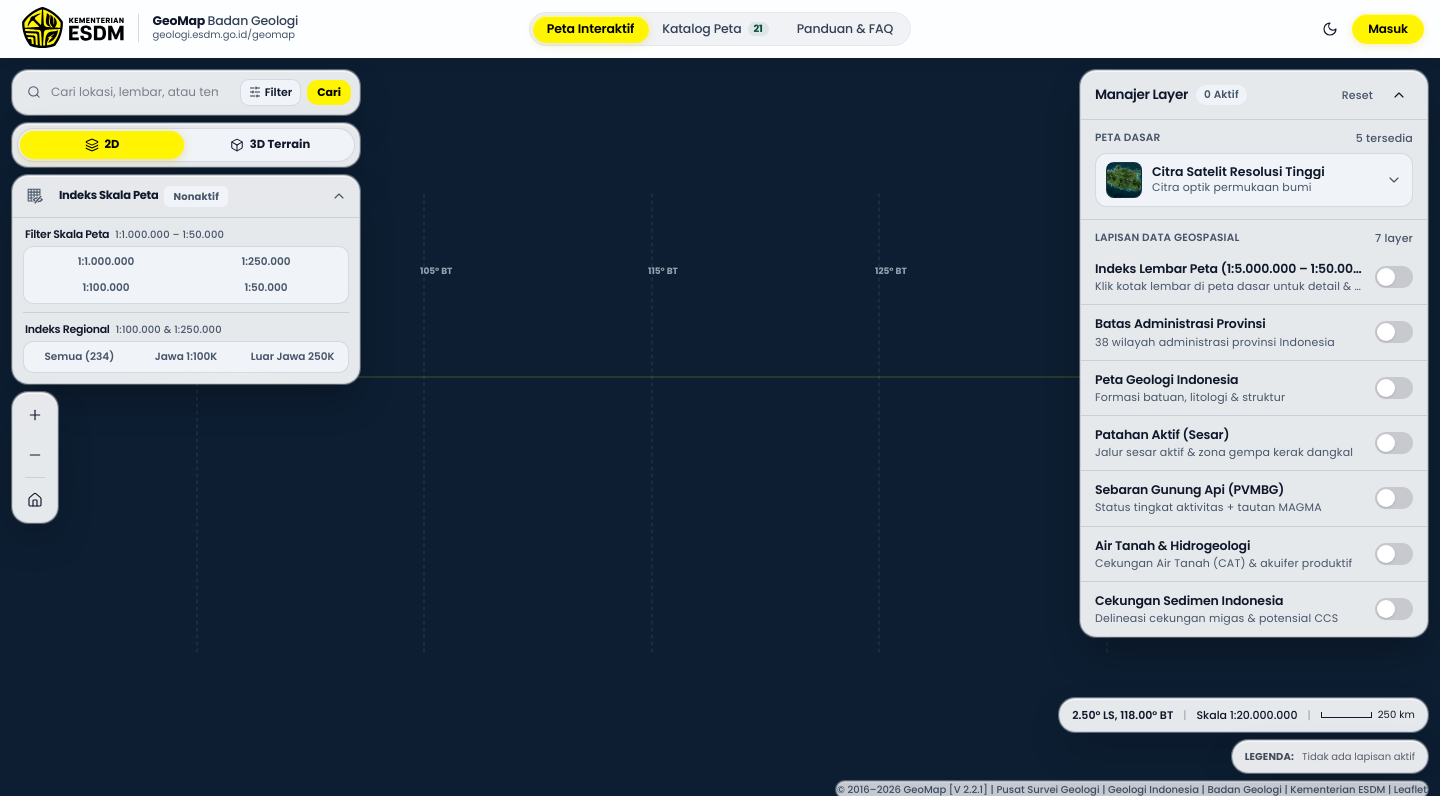
Test: GeoMap ESDM Portal — Master Blueprint Verification › menjalankan pencarian katalog dengan normalisasi istilah serta 1-Click Empty State Recovery
Click the button "Katalog Peta 21" at (715, 29), box [648, 16, 783, 42]
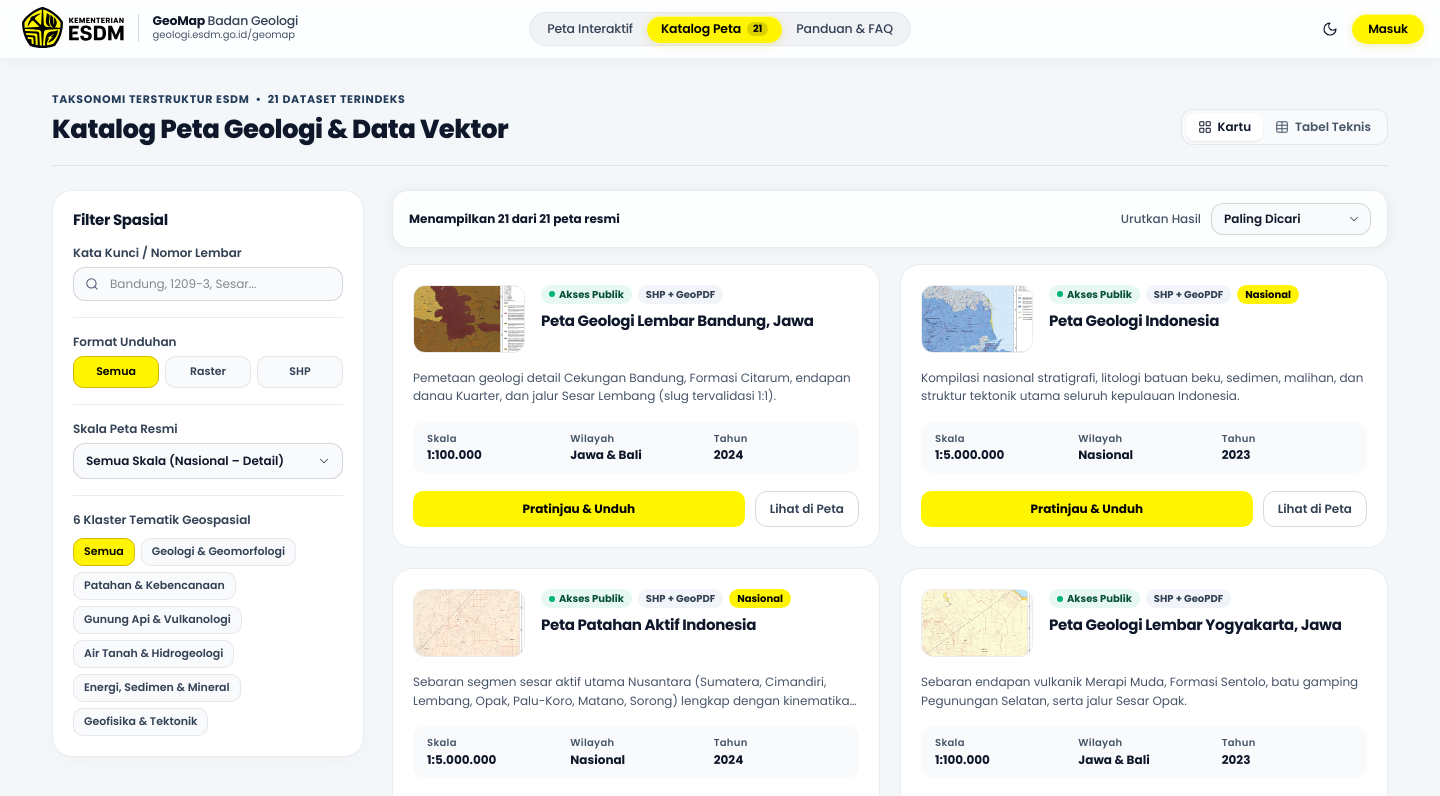
Type "sesar" into the search field named "Cari dataset dalam katalog peta" at (208, 284), box [73, 267, 343, 301]
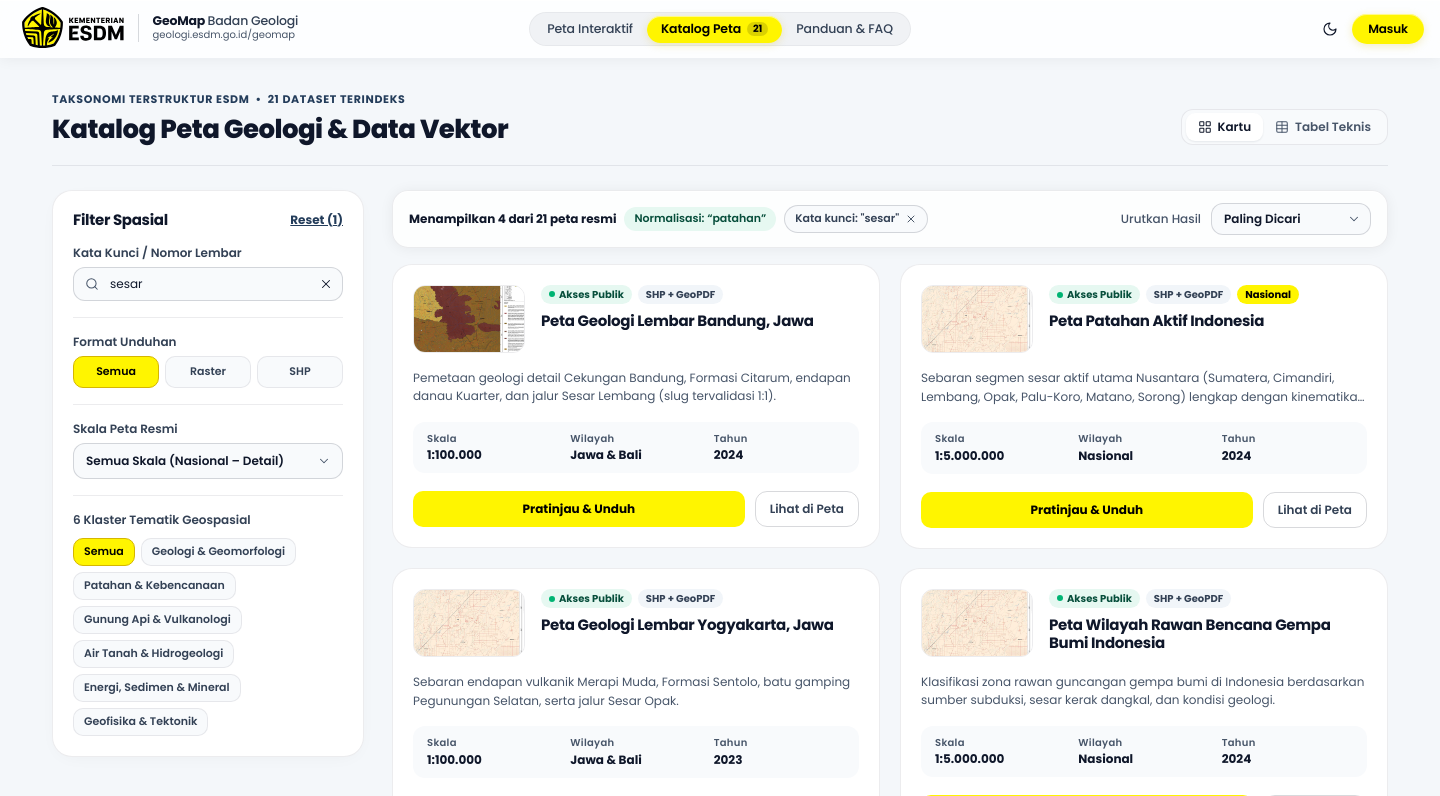
Result: the heading "Peta Patahan Aktif Indonesia" is shown at [1049, 310, 1264, 331]
Replace the text in the search field named "Cari dataset dalam katalog peta" with "xyz-tidak-ada-dataset-999" at (208, 284), box [73, 267, 343, 301]
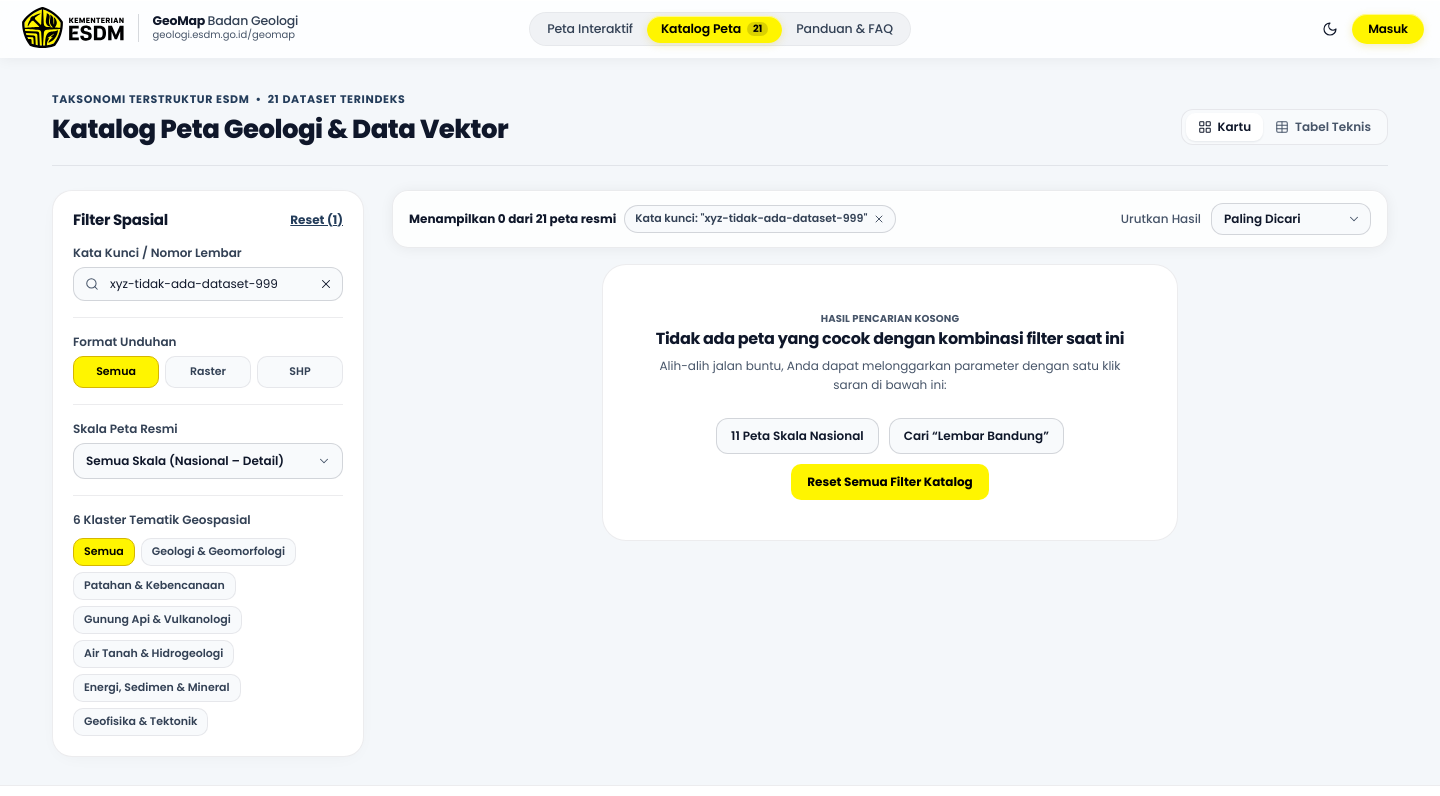
Result: the message with id "catalog-empty-state" is shown at [602, 264, 1178, 541]
Click the button "Reset Semua Filter Katalog" at (890, 482), box [791, 464, 989, 500]
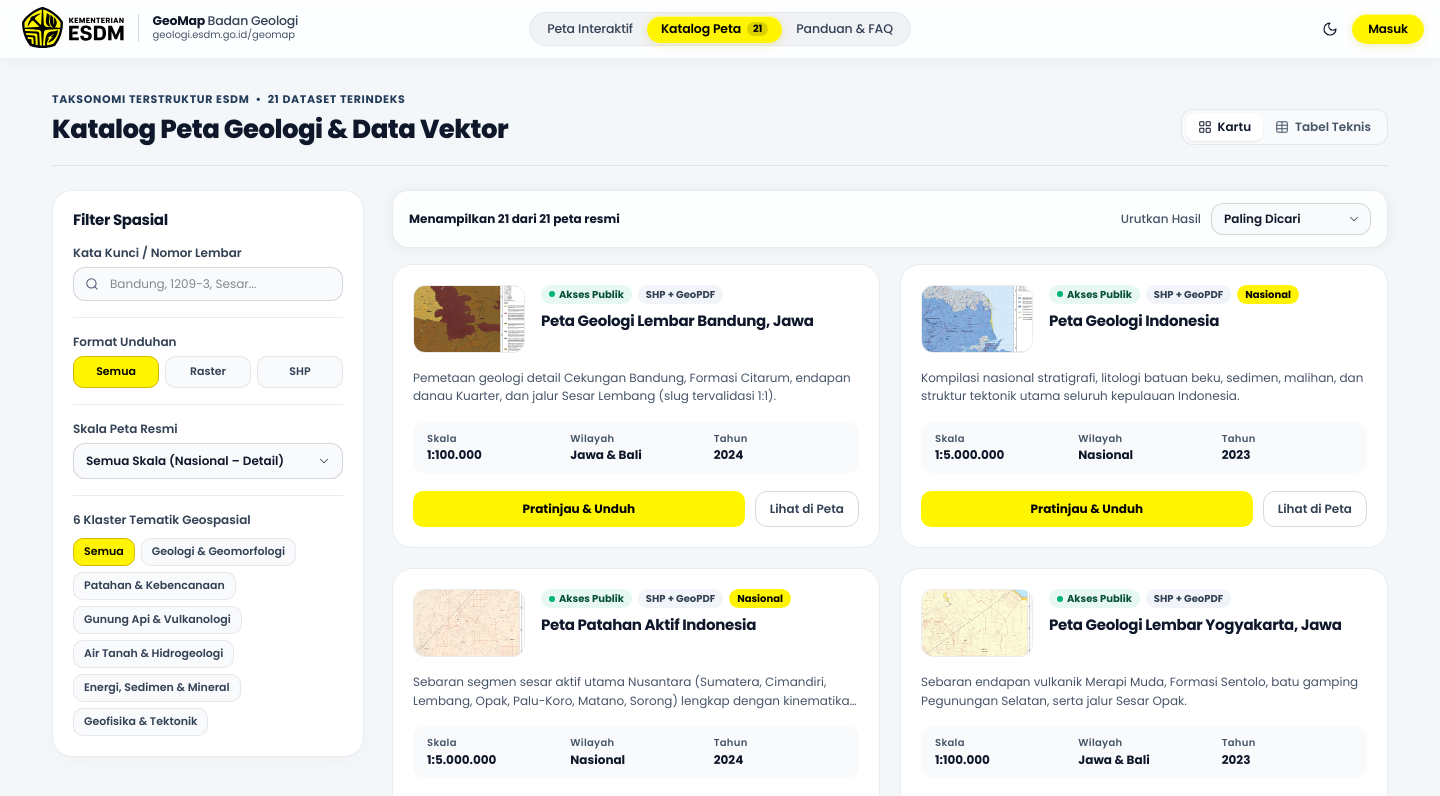
Result: the message with id "catalog-empty-state" is gone
